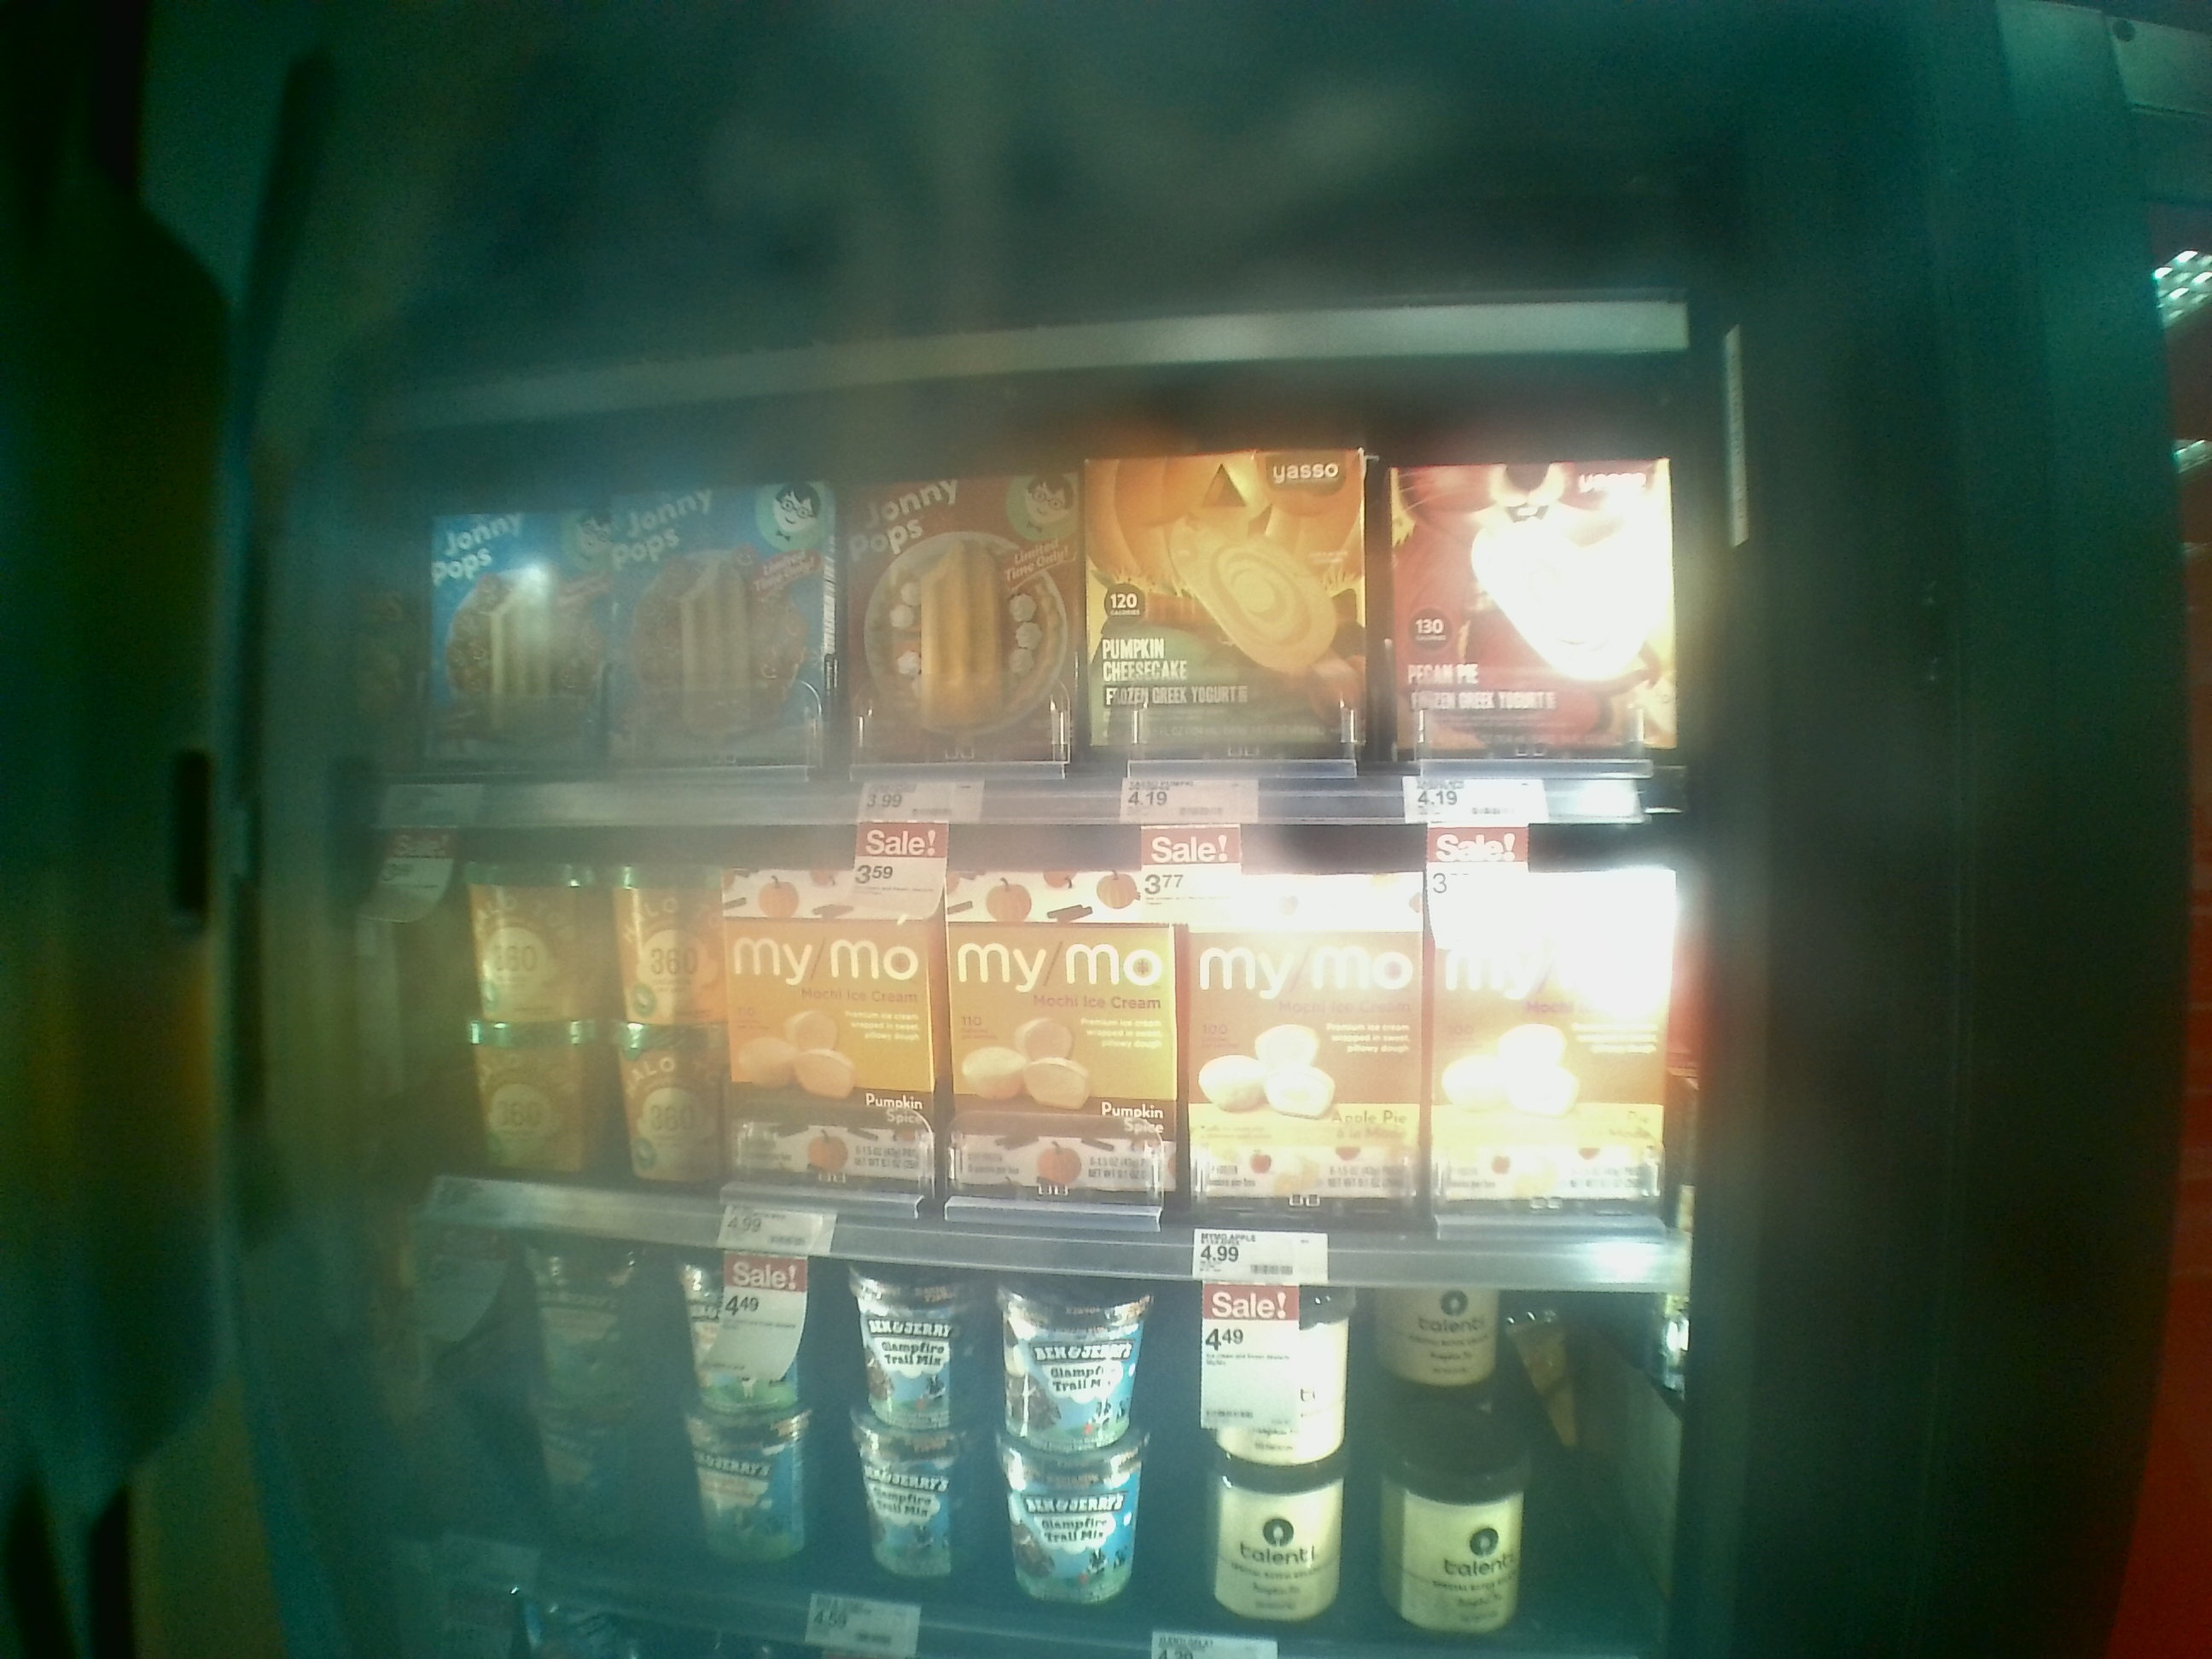shelf: (324, 802, 1698, 1300), (333, 406, 1719, 845)
